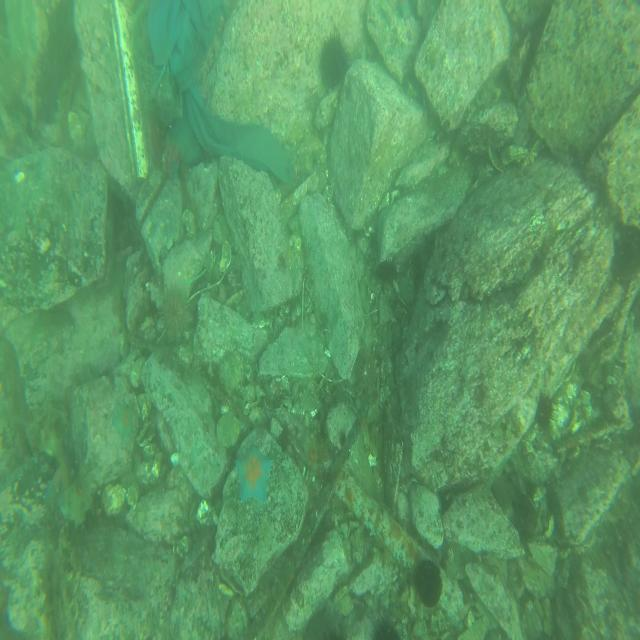echinus: (316, 29, 353, 92), (412, 550, 446, 609), (156, 283, 190, 337), (532, 392, 558, 436), (368, 611, 402, 640), (373, 255, 400, 283)
starfish: (232, 441, 275, 504), (110, 395, 134, 439)
